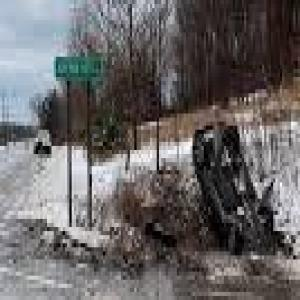serious: (187, 111, 279, 254)
